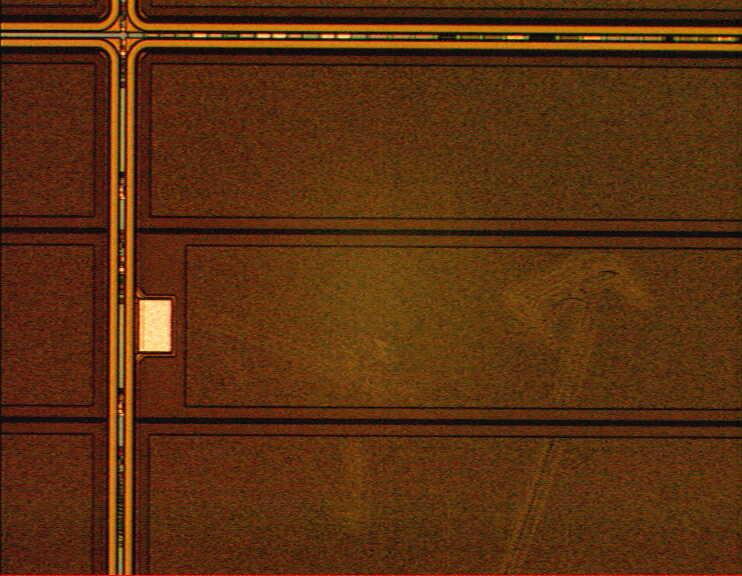SCRATCH: (175, 250, 666, 576)
